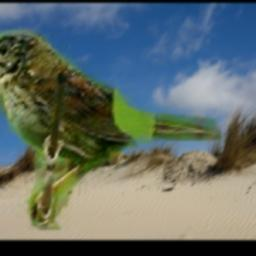Sparrow: (0, 30, 220, 230)
